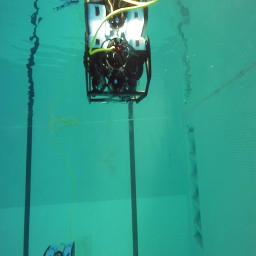back: (84, 32, 152, 106)
